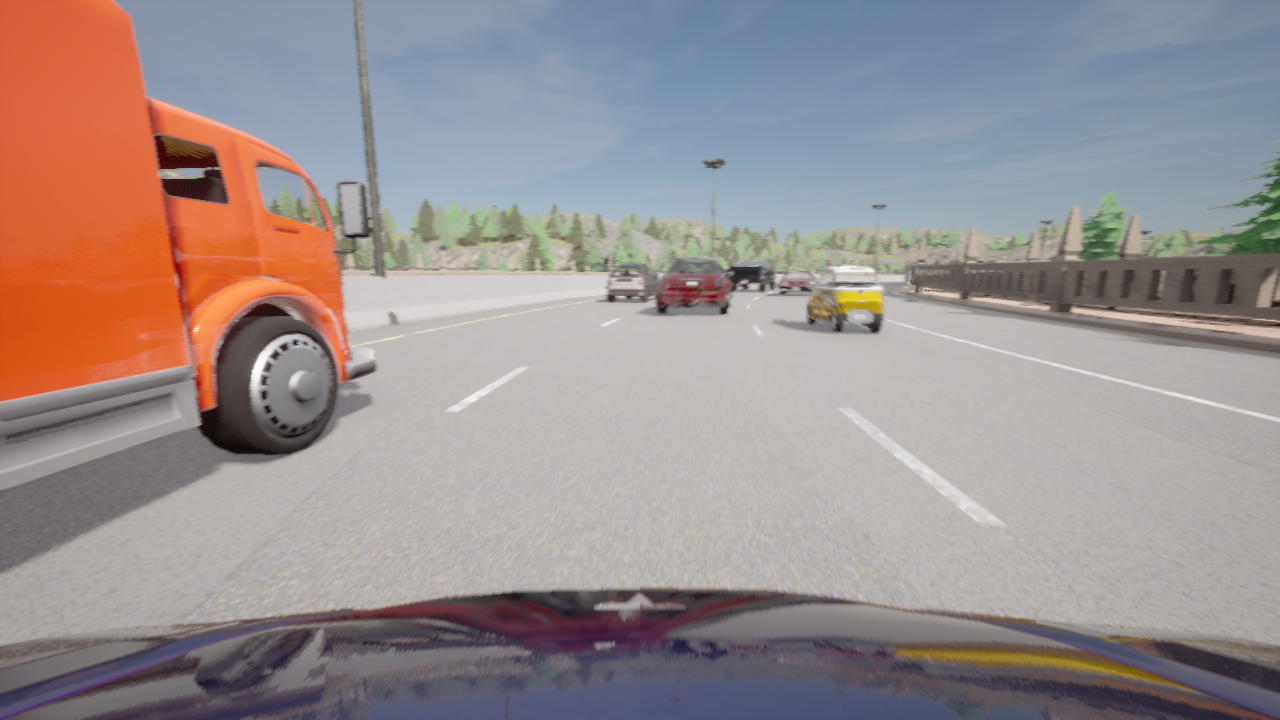cyclist: (0, 588, 1279, 719), (807, 266, 883, 333), (657, 257, 732, 315), (606, 264, 659, 302), (728, 261, 776, 292), (778, 272, 816, 295), (724, 270, 741, 287)
